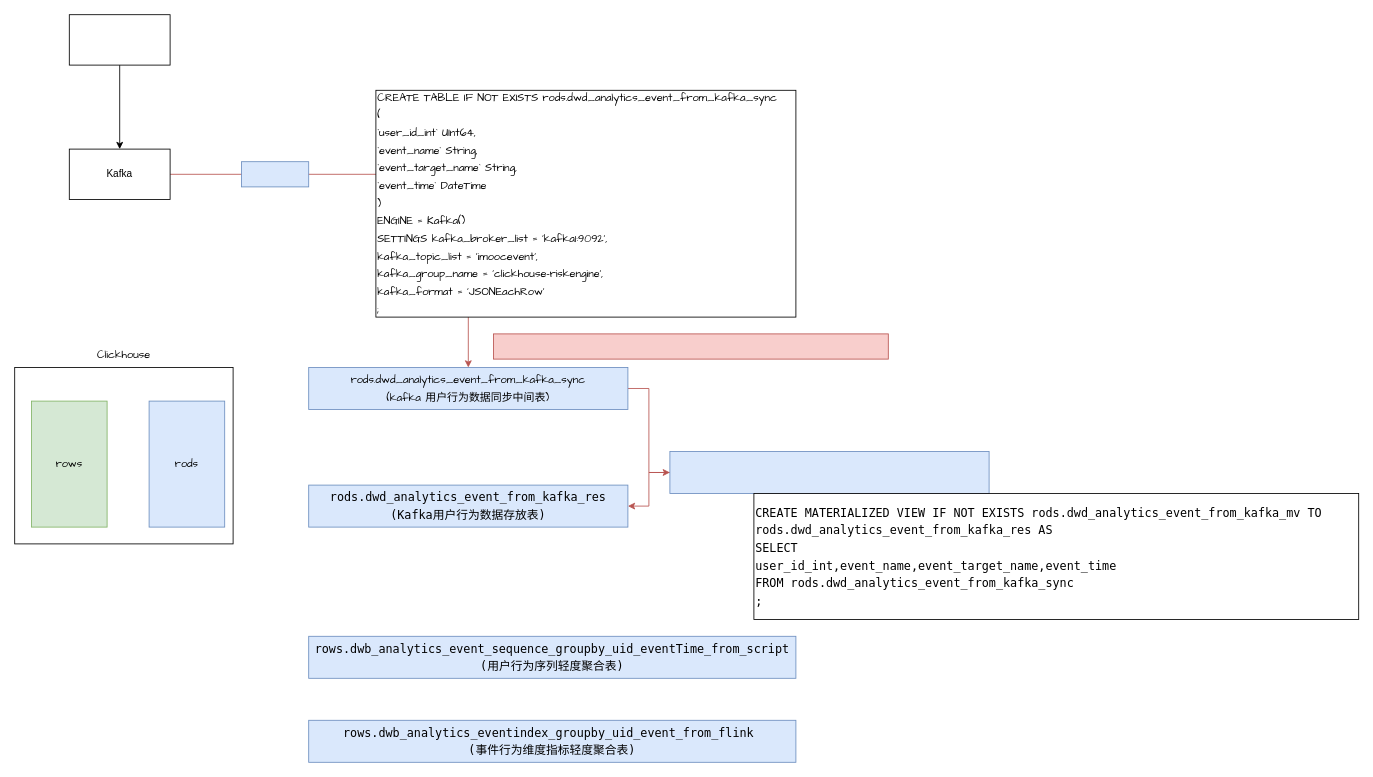
Image size: 1373x777. Some labels were removed from this diagram. The shapes that lost their labels are listed below. From the top down, each one's centre as x and y in pixels, then its label:
At point 119,39: "Flume".
At point 275,174: "Kafka 表引擎".
At point 690,346: "注意：kafka_sync 并不会真正存储数据，而是创建视图后，由 kafka_res表存储".
At point 829,472: "rods.dwd_analytics_event_from_kafka_mv (Kafka用户行为数据同步 物化视图表 )".
